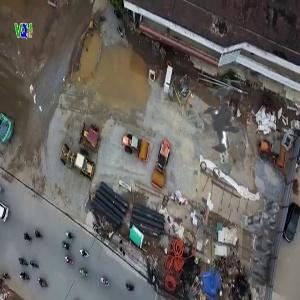drone: (154, 59, 283, 188)
